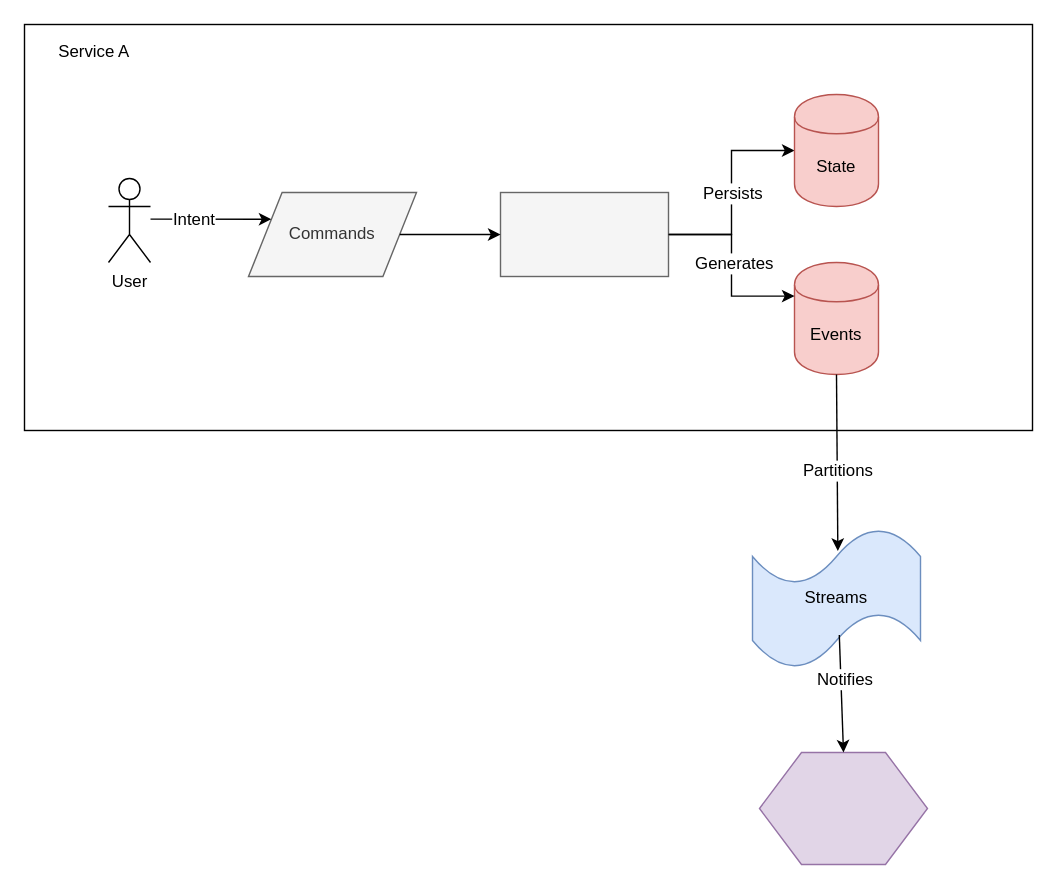
This 1057x889 diagram has some shape labels left out. Here are the shapes that lost their labels. From the top down, the box of each, then its label:
(499, 191, 668, 276): Execute command
(758, 751, 927, 864): Subscriber Service B
